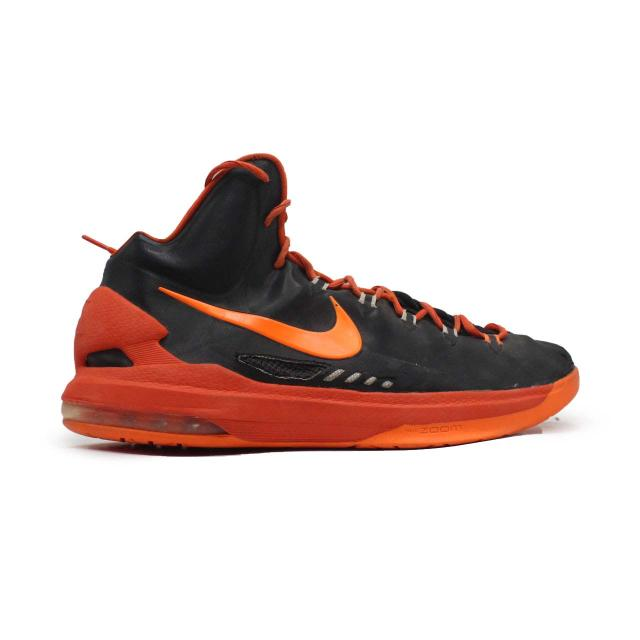heel: (73, 236, 167, 371)
midsole: (58, 363, 580, 456)
uppersole: (166, 153, 577, 395)
